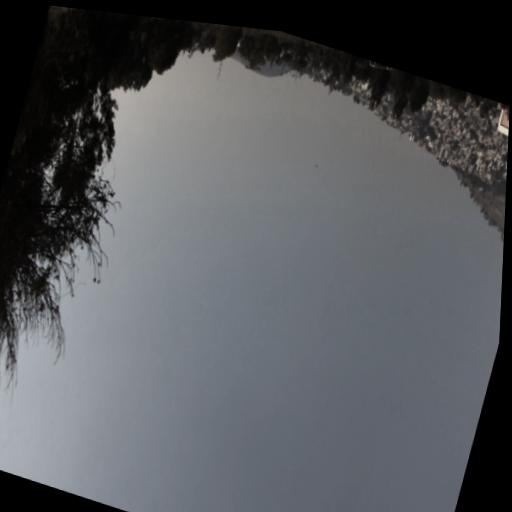drones: (313, 163, 318, 169)
